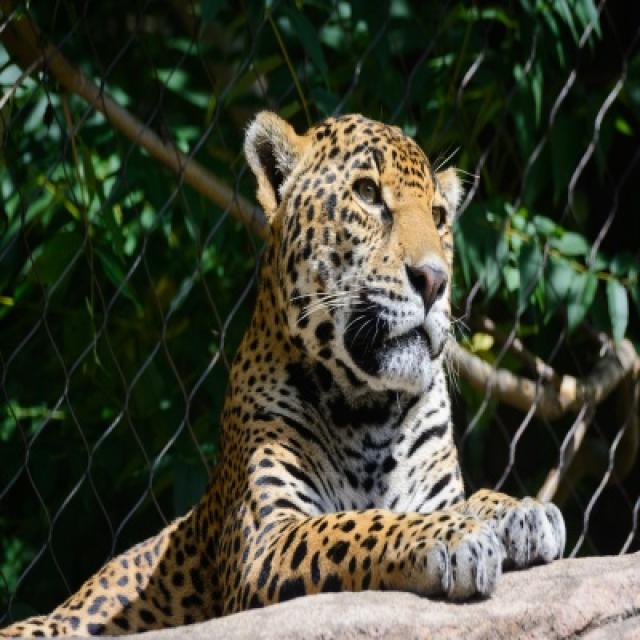Jaguar: (42, 110, 565, 638)
